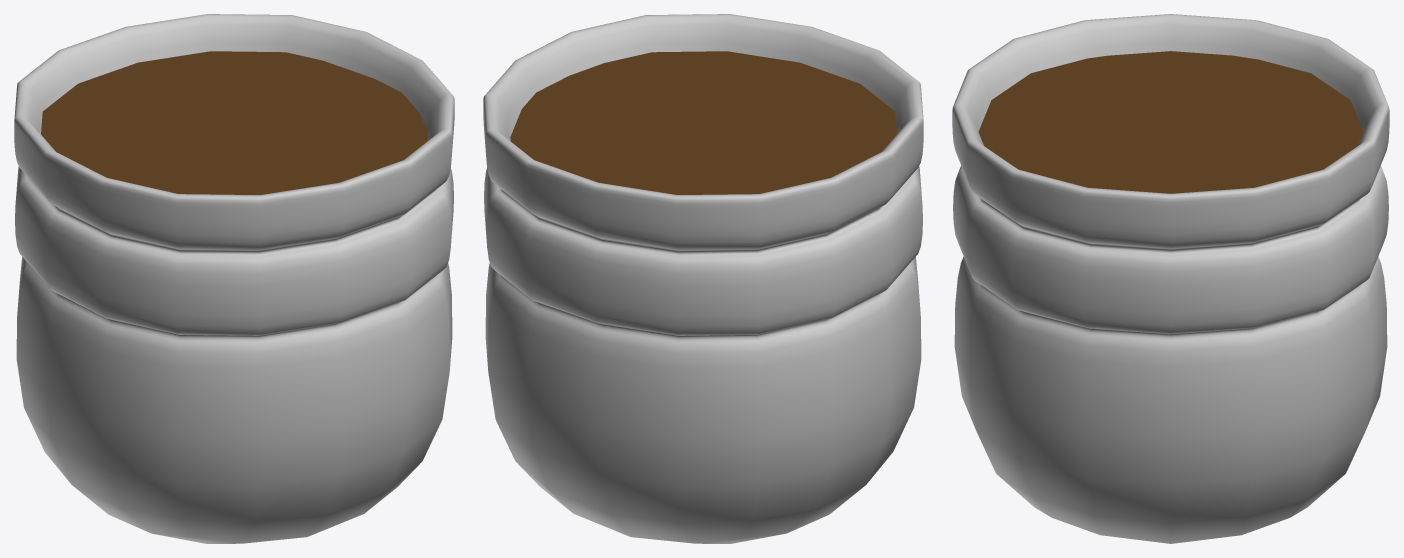
Rendered from SmallRoundPlantPot.fbx.
The picture shows the model from 3 angles, left to right: view 1: azimuth 30°, elevation 25°; view 2: azimuth 150°, elevation 25°; view 3: azimuth 270°, elevation 25°; orthographic projection.
Parts seen in each view (by area): view 1: Round PlantPot, PlantPot_dirt.001; view 2: Round PlantPot, PlantPot_dirt.001; view 3: Round PlantPot, PlantPot_dirt.001.
Boxes of the visible parts, x1,y1,x2,y2 form: Round PlantPot: [14, 14, 454, 543]; PlantPot_dirt.001: [41, 51, 427, 194]; Round PlantPot: [483, 14, 923, 543]; PlantPot_dirt.001: [510, 51, 896, 194]; Round PlantPot: [952, 14, 1389, 543]; PlantPot_dirt.001: [978, 51, 1363, 193].
Bounding box in the file's own units: 34.89 × 36.05 × 34.89.
